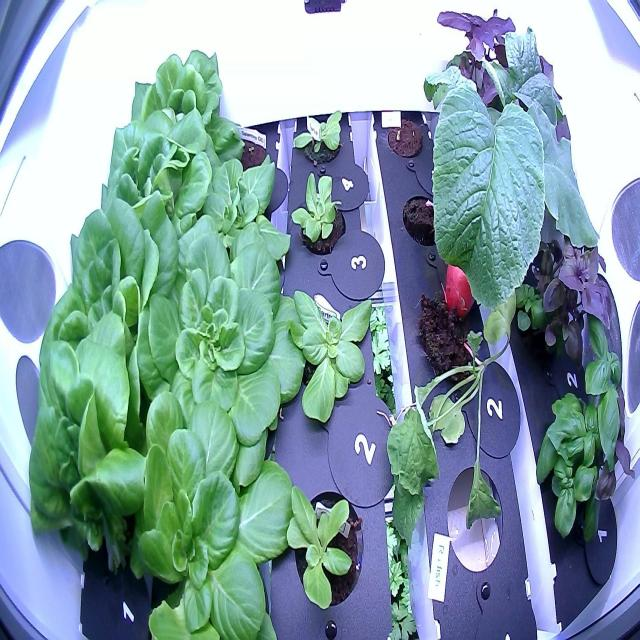Ready: (18, 320, 162, 583), (39, 161, 173, 376), (88, 102, 224, 248), (120, 43, 247, 169)
empty_pod: (439, 455, 512, 580)
germination: (228, 122, 272, 186), (385, 106, 431, 166)
young: (120, 399, 303, 639), (132, 224, 314, 454), (274, 278, 383, 430), (171, 149, 294, 278), (282, 475, 368, 619), (288, 168, 352, 264), (289, 100, 351, 173)
